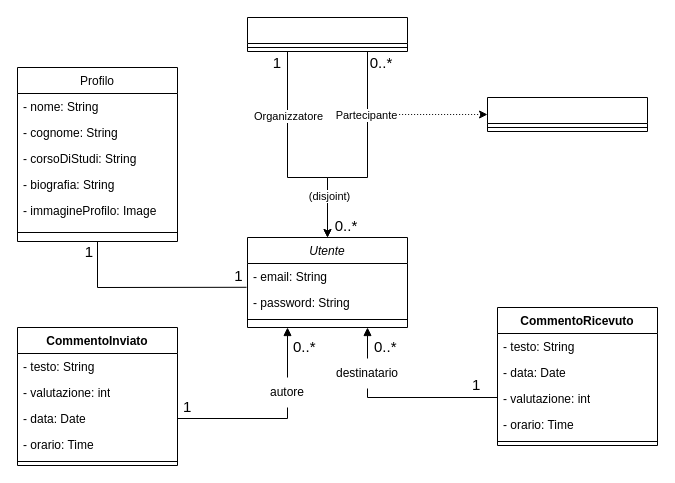
This 675x483 diagram has some shape labels left out. The shapes that lost their labels are listed below. From the top down, each one's centre as x and y in pixels, then its label:
At (327,34): "Evento".
At (567,114): "Prenotazione".
